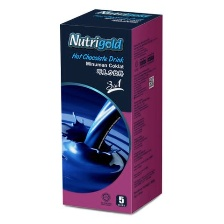carton: (56, 6, 171, 215)
